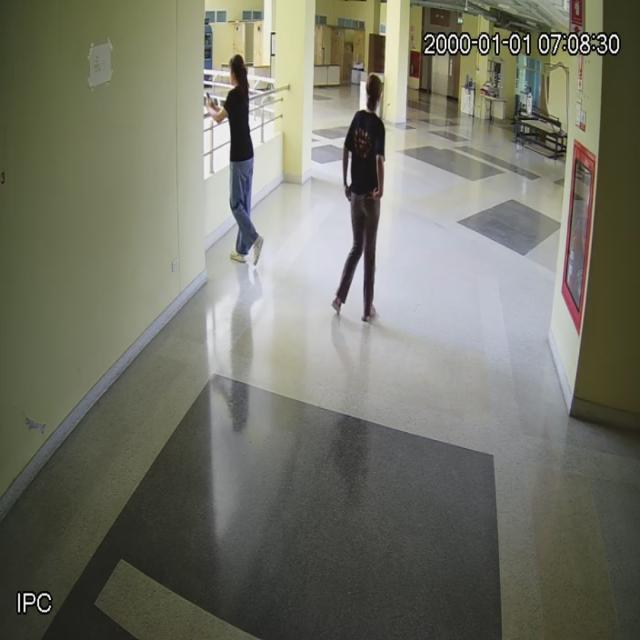normal: (335, 76, 385, 323), (207, 57, 264, 264)
